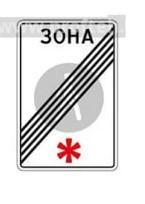road_sign: (15, 17, 123, 173)
